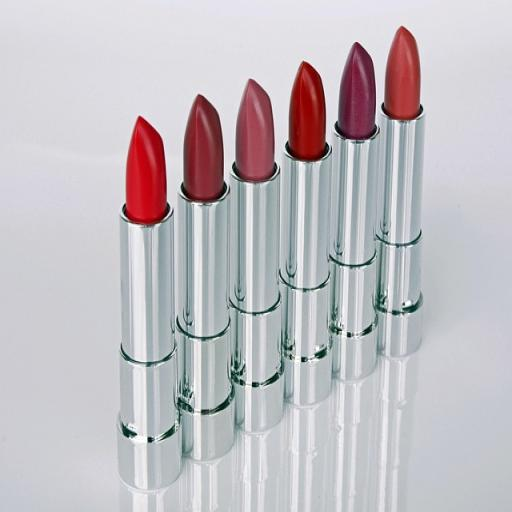lipstick: (118, 118, 181, 490), (176, 96, 234, 460), (230, 80, 283, 431), (280, 63, 331, 405), (329, 42, 379, 381), (376, 27, 424, 357)
